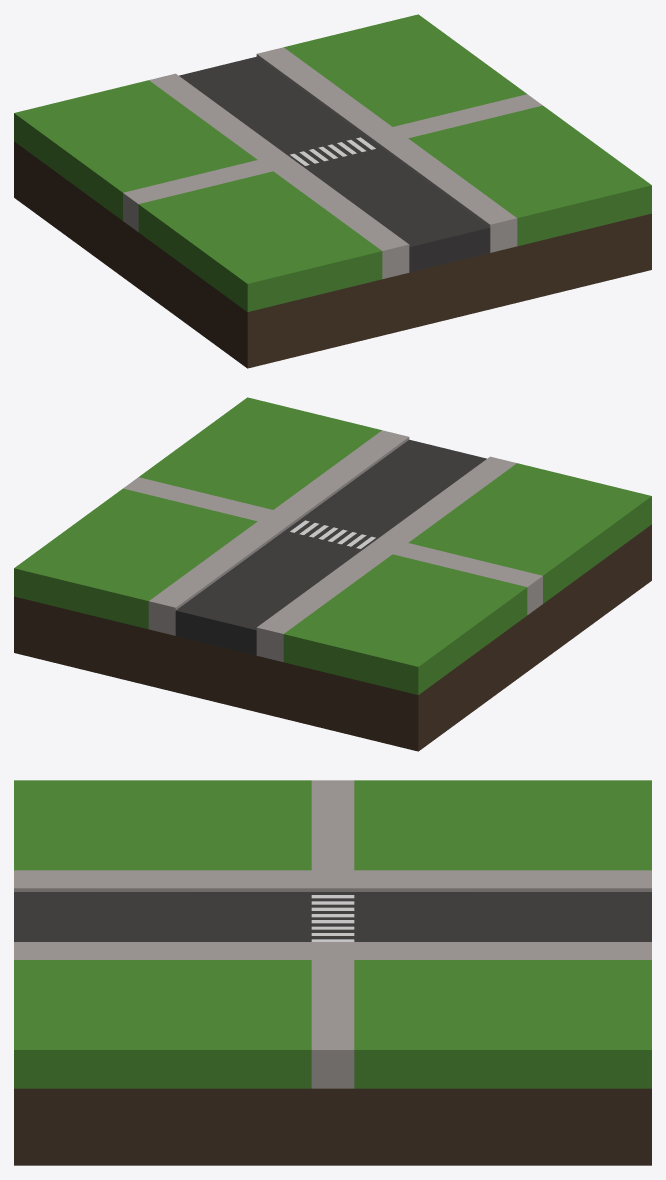
File: tiles_tile-road-straight-crosswalk.fbx
The picture shows the model from 3 angles, top to bottom: view 1: azimuth 30°, elevation 25°; view 2: azimuth 150°, elevation 25°; view 3: azimuth 270°, elevation 25°; orthographic projection. The views are drawn at different scales.
Parts seen in each view (by area): view 1: tiles_tile_road_straight_crosswalk; view 2: tiles_tile_road_straight_crosswalk; view 3: tiles_tile_road_straight_crosswalk.
Part boxes in pixels (x1=…): tiles_tile_road_straight_crosswalk: x1=14, y1=14, x2=651, y2=368; tiles_tile_road_straight_crosswalk: x1=14, y1=397, x2=651, y2=751; tiles_tile_road_straight_crosswalk: x1=14, y1=780, x2=651, y2=1165.
Size of the model in its own units: 200 by 40 by 200.
